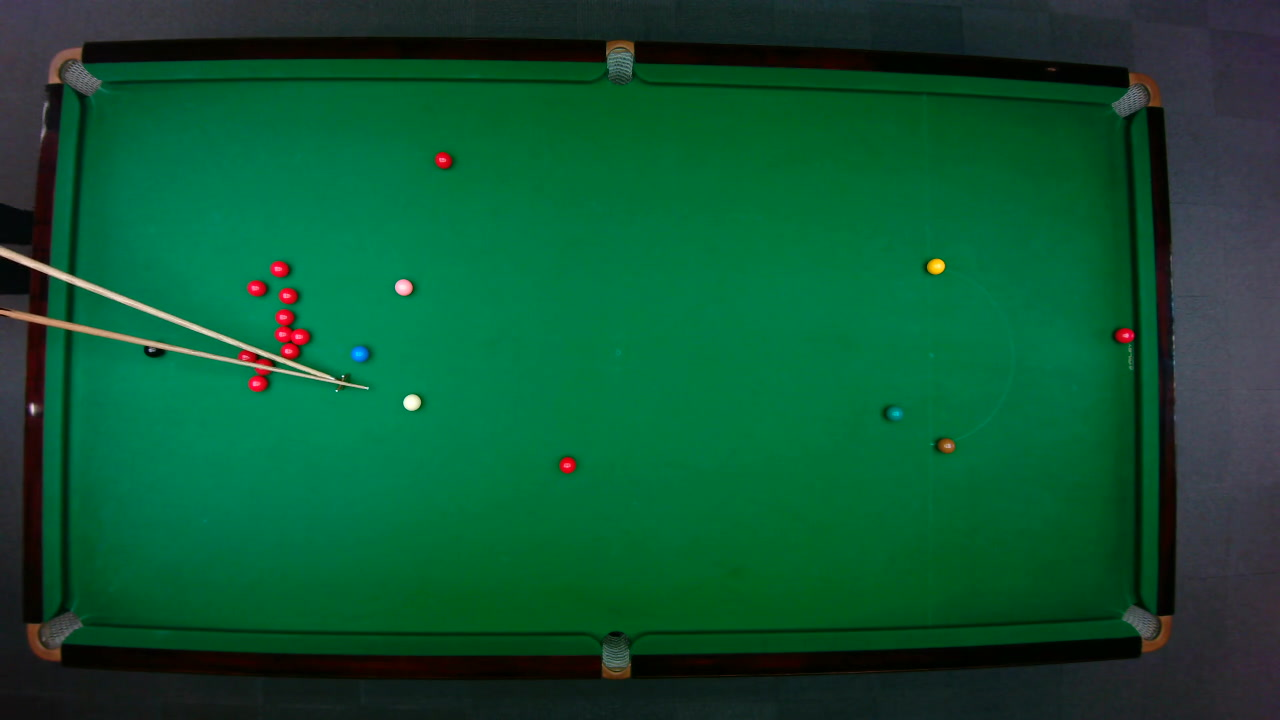bag: (25, 609, 83, 661), (45, 46, 101, 96), (1119, 603, 1171, 652), (1108, 71, 1162, 118), (601, 629, 630, 680), (605, 38, 633, 85)
black: (141, 338, 166, 360)
blue: (349, 344, 370, 362)
brown: (936, 436, 956, 453)
cue: (0, 298, 372, 391)
green: (883, 404, 904, 421)
pink: (393, 277, 413, 296)
red: (286, 326, 310, 345), (236, 349, 258, 369), (254, 358, 275, 377), (246, 374, 268, 392), (245, 278, 267, 296), (268, 259, 290, 277), (277, 286, 298, 304), (273, 307, 294, 325), (1113, 326, 1135, 343), (433, 150, 452, 169), (272, 325, 293, 342), (279, 342, 300, 358), (558, 455, 576, 473)
white: (401, 392, 422, 411)
yellow: (925, 256, 945, 274)
zone: (926, 265, 1014, 444)
